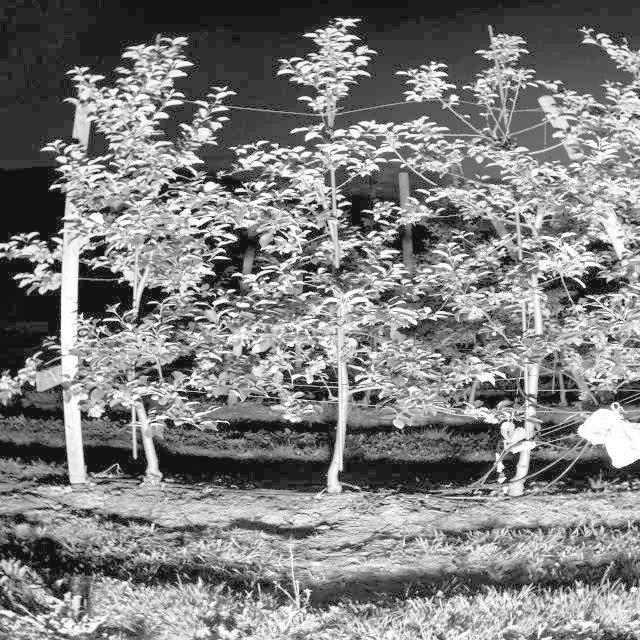Tree: (229, 22, 394, 495), (432, 40, 571, 496), (88, 35, 199, 488)
